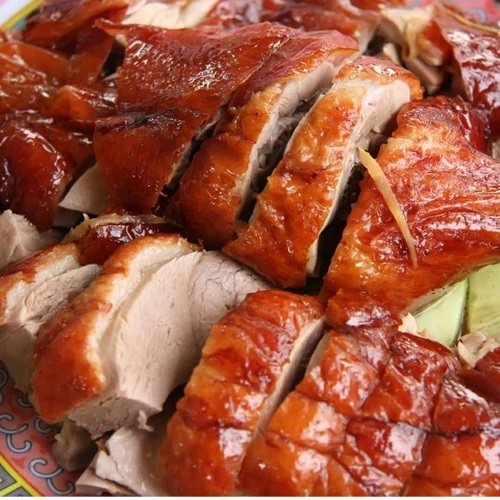peking_duck: (4, 4, 496, 500)
